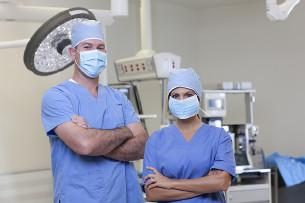OK: (74, 40, 113, 79), (169, 90, 201, 119)
